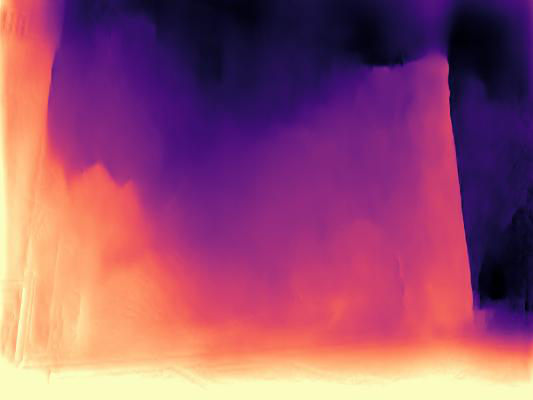painting: (14, 38, 472, 348)
